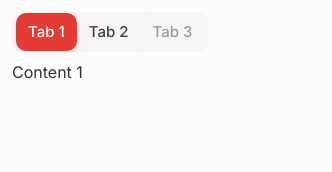
Scenario: Tabs Components › Tabs › switches content when clicking tabs
Check: the text "Content 1" is shown, box [12,62,83,82]
Click the tab "Tab 2".
click(109, 32)  # box [77,13,140,51]
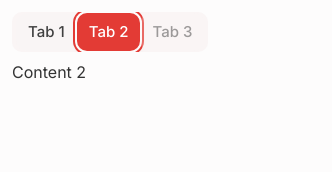
Check: the text "Content 2" is shown, box [12,62,86,82]
